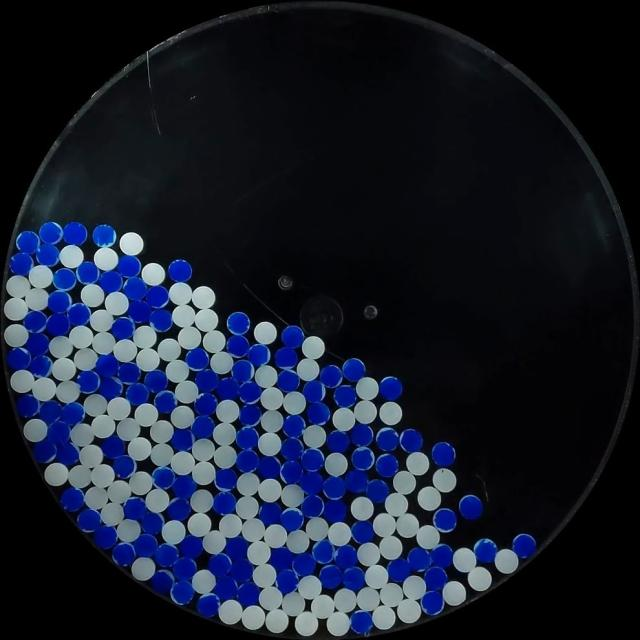pmmma-azul: (172, 556, 197, 582), (25, 331, 50, 357), (32, 438, 58, 463), (55, 441, 81, 466), (458, 494, 483, 520), (179, 534, 204, 559), (166, 496, 191, 521), (170, 579, 195, 604), (511, 533, 536, 558), (172, 474, 196, 500), (224, 535, 248, 561), (6, 347, 32, 371), (191, 414, 215, 440), (334, 544, 358, 570), (45, 312, 71, 336), (132, 533, 158, 557), (97, 375, 123, 399), (154, 542, 179, 566), (76, 368, 101, 392), (76, 508, 101, 532), (194, 368, 218, 393), (111, 316, 135, 341), (47, 290, 72, 314), (431, 441, 455, 466), (212, 490, 236, 515), (349, 610, 374, 634), (123, 276, 148, 300), (235, 425, 259, 450), (100, 434, 125, 458), (226, 311, 251, 335), (342, 566, 366, 591), (123, 496, 148, 520), (95, 354, 120, 378), (280, 436, 304, 461), (196, 593, 220, 618), (322, 498, 346, 523), (378, 375, 402, 400), (230, 358, 254, 383), (322, 475, 346, 500), (127, 299, 151, 324), (60, 487, 84, 512), (301, 494, 325, 519), (473, 538, 498, 562), (141, 510, 164, 536), (237, 581, 260, 607), (421, 590, 444, 616), (62, 222, 88, 245), (208, 552, 232, 576), (112, 454, 136, 478), (149, 308, 173, 332), (10, 252, 34, 276), (99, 269, 123, 293), (351, 446, 375, 470), (117, 254, 141, 278), (235, 449, 259, 473), (112, 542, 136, 566), (93, 524, 117, 548), (258, 501, 282, 525), (76, 261, 100, 285), (38, 400, 62, 424), (24, 310, 48, 334), (146, 285, 170, 309), (429, 544, 453, 568), (151, 466, 175, 490), (60, 401, 84, 425), (216, 377, 240, 401), (36, 242, 60, 266), (39, 221, 63, 245), (48, 420, 72, 444), (256, 455, 280, 479), (238, 381, 262, 405), (29, 354, 53, 378), (299, 470, 323, 494), (350, 422, 373, 447), (319, 564, 342, 589), (424, 565, 447, 590), (399, 428, 422, 453), (433, 507, 456, 532), (92, 225, 117, 248), (276, 568, 298, 594), (312, 539, 334, 565), (126, 381, 149, 405), (301, 448, 324, 472), (376, 427, 399, 451), (351, 520, 374, 544), (280, 507, 303, 531), (283, 413, 306, 437), (68, 302, 91, 326), (186, 348, 210, 371), (144, 370, 168, 393), (407, 547, 430, 571), (387, 559, 411, 582), (292, 553, 315, 577), (194, 392, 218, 415), (280, 325, 304, 348), (170, 428, 193, 452), (226, 335, 250, 358), (306, 400, 329, 424), (239, 403, 263, 426), (342, 358, 365, 382), (333, 384, 356, 408), (214, 467, 237, 491), (151, 570, 174, 594), (302, 379, 325, 403), (154, 389, 177, 413), (280, 460, 303, 484), (276, 369, 300, 392), (16, 230, 40, 253), (248, 342, 270, 367), (376, 452, 398, 477), (115, 362, 140, 384), (16, 394, 39, 417), (366, 478, 388, 502), (168, 260, 192, 282), (326, 430, 350, 452), (53, 268, 77, 290), (320, 364, 342, 388), (274, 346, 298, 368), (272, 546, 294, 570), (348, 470, 369, 494), (230, 560, 252, 582), (216, 577, 236, 599)
